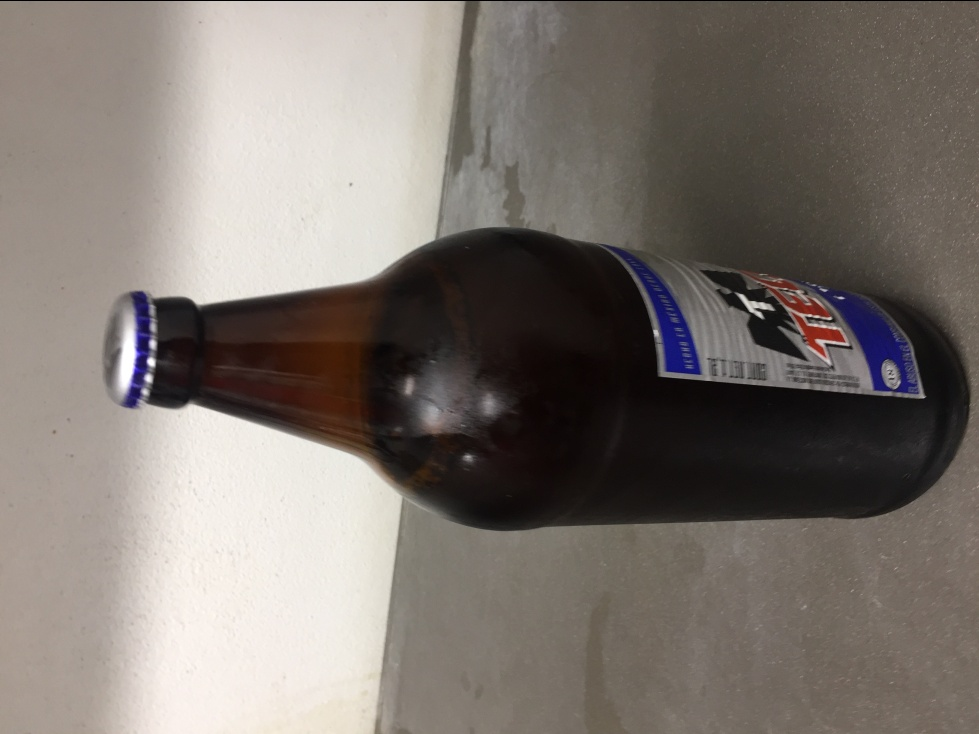tecateC: (102, 228, 974, 531)
